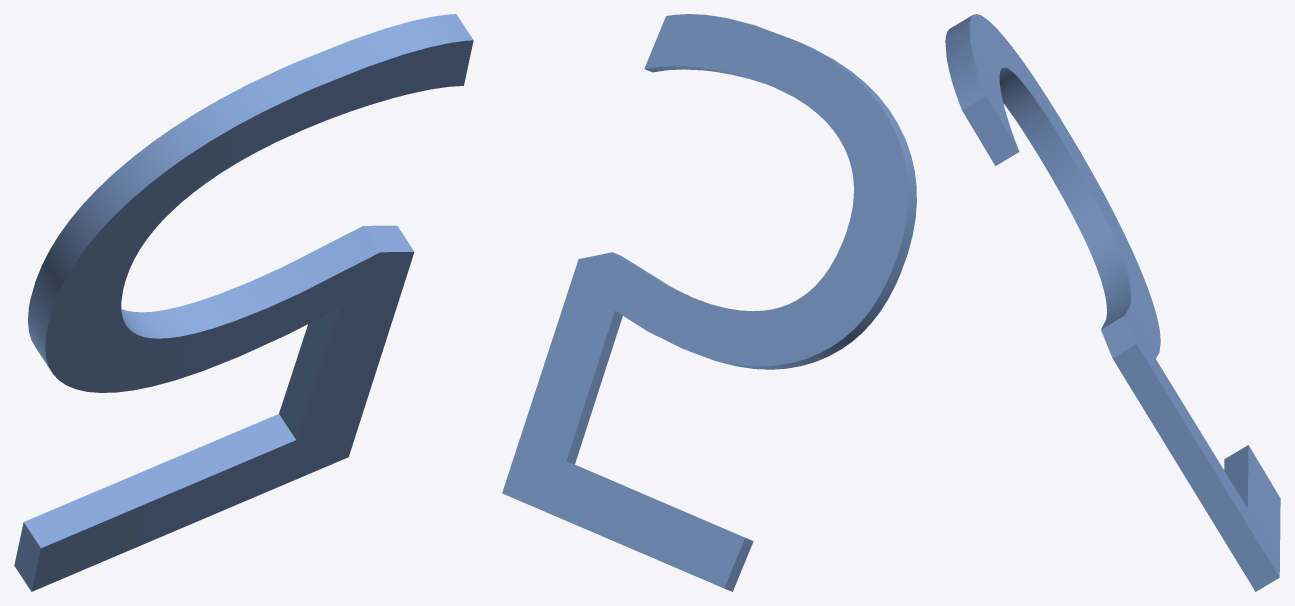
The model's file is New_Number_5.gltf.
3 views of the same model, side by side, from view 1: azimuth 30°, elevation 25°; view 2: azimuth 150°, elevation 25°; view 3: azimuth 270°, elevation 25° (orthographic). The views are drawn at different scales.
Visible parts, largest first — view 1: Part 32; view 2: Part 32; view 3: Part 32.
Boxes of the visible parts, x1=… form: Part 32: x1=14, y1=14, x2=473, y2=591; Part 32: x1=502, y1=14, x2=916, y2=591; Part 32: x1=945, y1=14, x2=1280, y2=591.
Size of the model in its own units: 0.00368 by 0.00524 by 0.00301.
